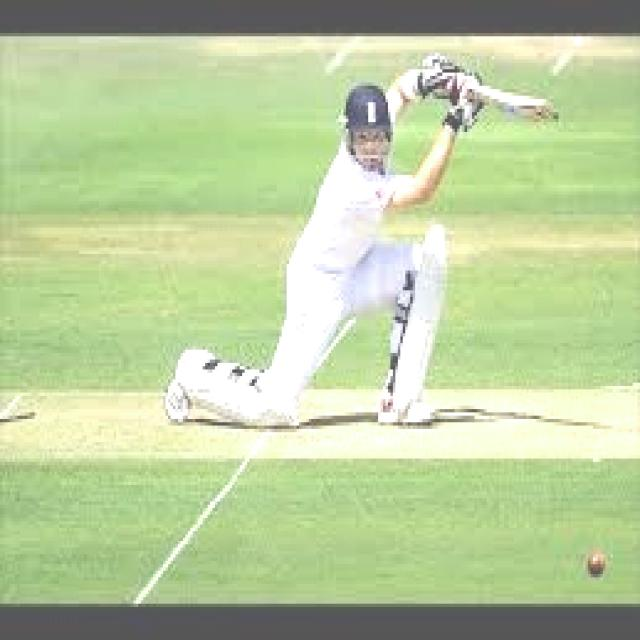toe: (526, 92, 560, 129)
